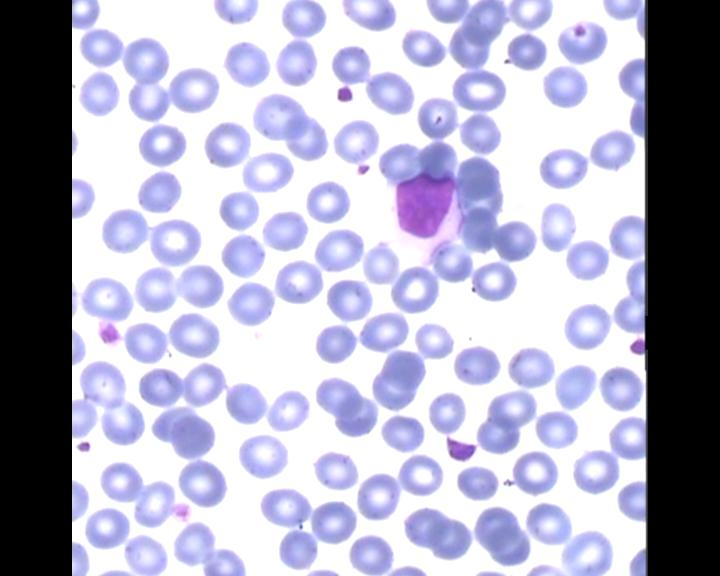mono: (388, 167, 467, 254)
